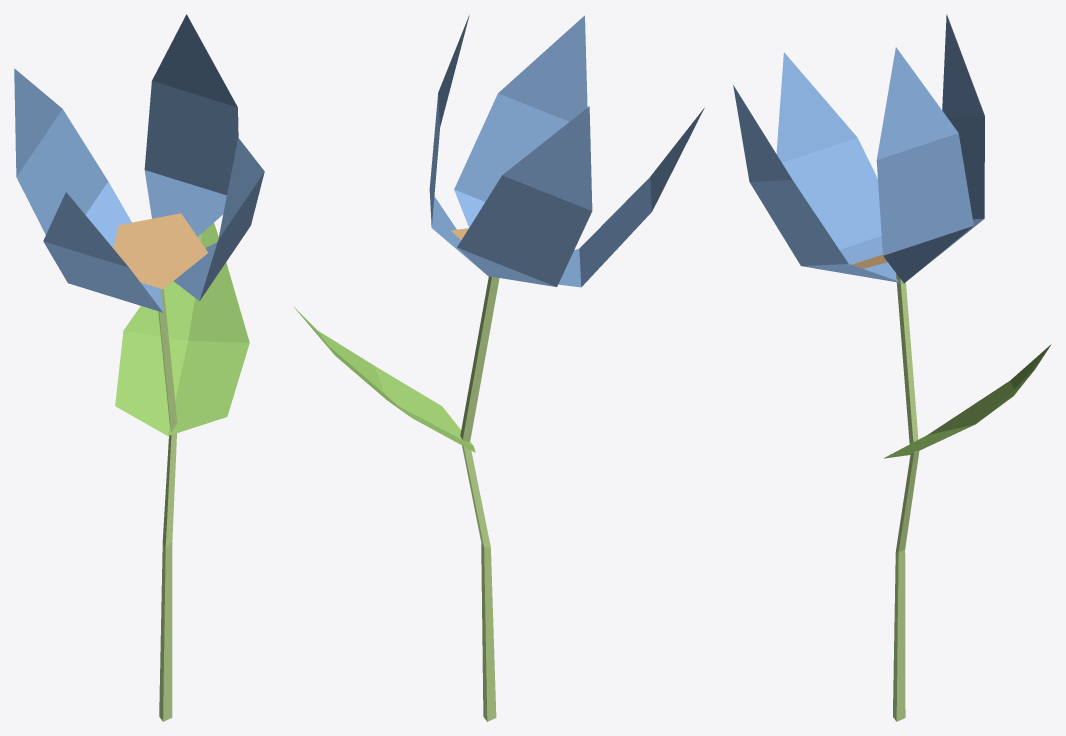
File: Flower_a_TwoS_07.fbx
3 renders of one model, left to right at view 1: azimuth 30°, elevation 25°; view 2: azimuth 150°, elevation 25°; view 3: azimuth 270°, elevation 25°, orthographic. The views are drawn at different scales.
Parts seen in each view (by area): view 1: Flower_a_TwoS_07; view 2: Flower_a_TwoS_07; view 3: Flower_a_TwoS_07.
Part boxes in pixels (bbox=[...]): Flower_a_TwoS_07: bbox=[14, 14, 264, 721]; Flower_a_TwoS_07: bbox=[294, 15, 704, 721]; Flower_a_TwoS_07: bbox=[733, 14, 1051, 721].
Bounding box in the file's own units: 0.3237 × 0.7875 × 0.3336.
